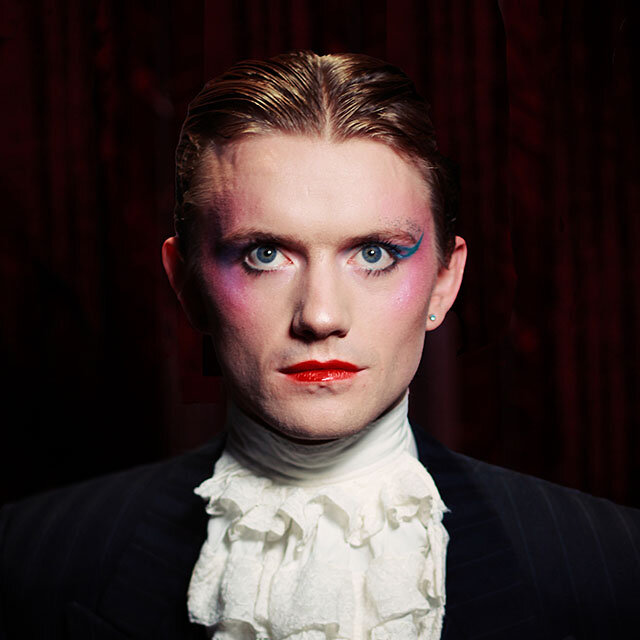human: (188, 114, 442, 441)
